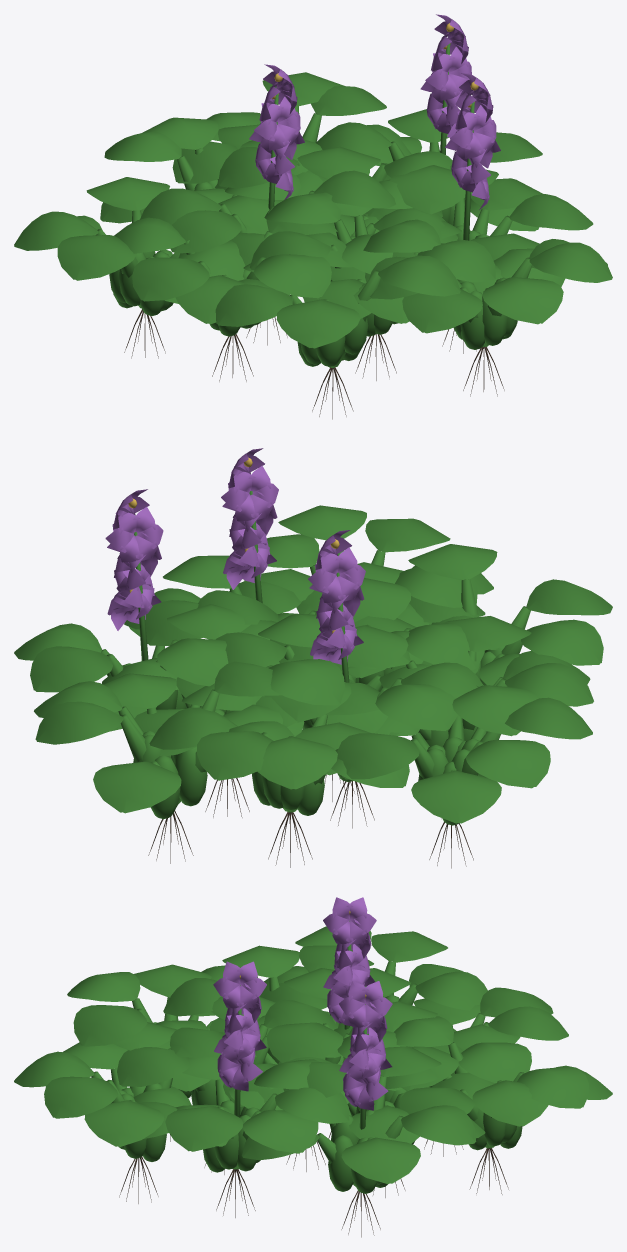
The model's file is KL_LS_Water_Hyacinth_Raft.gltf.
3 views of the same model, one above another, from view 1: azimuth 30°, elevation 25°; view 2: azimuth 150°, elevation 25°; view 3: azimuth 270°, elevation 25° (orthographic). The views are drawn at different scales.
Parts seen in each view (by area): view 1: TF3_KL_LS_Water_Hyacinth_Raft; view 2: TF3_KL_LS_Water_Hyacinth_Raft; view 3: TF3_KL_LS_Water_Hyacinth_Raft.
Boxes of the visible parts, <box> form: TF3_KL_LS_Water_Hyacinth_Raft: <box>14,14,612,419</box>; TF3_KL_LS_Water_Hyacinth_Raft: <box>14,448,612,868</box>; TF3_KL_LS_Water_Hyacinth_Raft: <box>14,897,612,1237</box>.
Bounding box in the file's own units: 1.24 × 0.6205 × 1.34.
